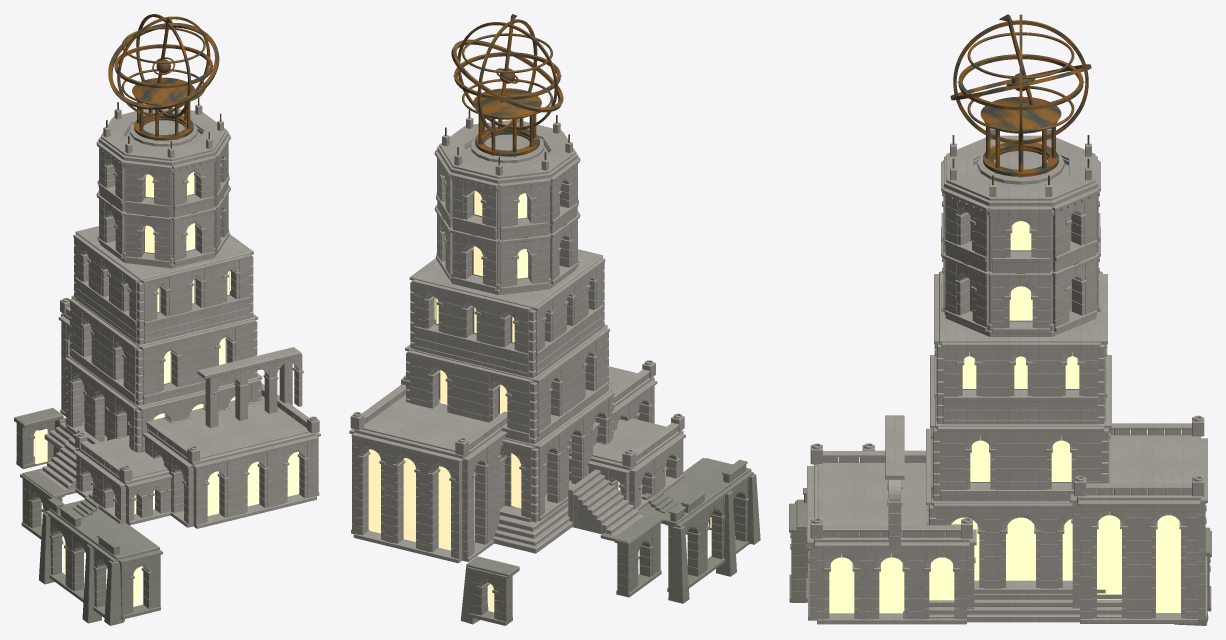
The model's file is garden-lighthouse-shell.glb.
The picture shows the model from 3 angles, left to right: view 1: azimuth 30°, elevation 25°; view 2: azimuth 150°, elevation 25°; view 3: azimuth 270°, elevation 25°; orthographic projection. The views are drawn at different scales.
Visible parts, largest first — view 1: Tidal Observatory | Salt-weathered limestone, Tidal Observatory | Tide-worn foundation limestone, Tidal Observatory | Weathered maritime bronze, Tidal Observatory | Cool shadowed stone within apertures; view 2: Tidal Observatory | Salt-weathered limestone, Tidal Observatory | Tide-worn foundation limestone, Tidal Observatory | Weathered maritime bronze, Tidal Observatory | Cool shadowed stone within apertures; view 3: Tidal Observatory | Salt-weathered limestone, Tidal Observatory | Cool shadowed stone within apertures, Tidal Observatory | Weathered maritime bronze, Tidal Observatory | Tide-worn foundation limestone.
Part boxes in pixels (bbox=[...]): Tidal Observatory | Salt-weathered limestone: bbox=[38, 104, 320, 528]; Tidal Observatory | Tide-worn foundation limestone: bbox=[14, 408, 162, 625]; Tidal Observatory | Weathered maritime bronze: bbox=[106, 14, 223, 219]; Tidal Observatory | Cool shadowed stone within apertures: bbox=[35, 172, 299, 605]; Tidal Observatory | Salt-weathered limestone: bbox=[349, 117, 685, 563]; Tidal Observatory | Tide-worn foundation limestone: bbox=[460, 458, 760, 625]; Tidal Observatory | Weathered maritime bronze: bbox=[442, 14, 569, 241]; Tidal Observatory | Cool shadowed stone within apertures: bbox=[368, 190, 711, 611]; Tidal Observatory | Salt-weathered limestone: bbox=[807, 128, 1207, 624]; Tidal Observatory | Cool shadowed stone within apertures: bbox=[829, 221, 1180, 613]; Tidal Observatory | Weathered maritime bronze: bbox=[942, 14, 1099, 277]; Tidal Observatory | Tide-worn foundation limestone: bbox=[789, 488, 1211, 625].
Size of the model in its own units: 16.98 by 36.89 by 21.13.
5 materials, 3 textured.
